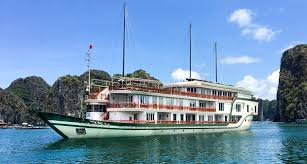tau_dansu: (39, 28, 263, 139)
